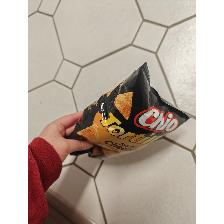Chips: (65, 61, 195, 163)
